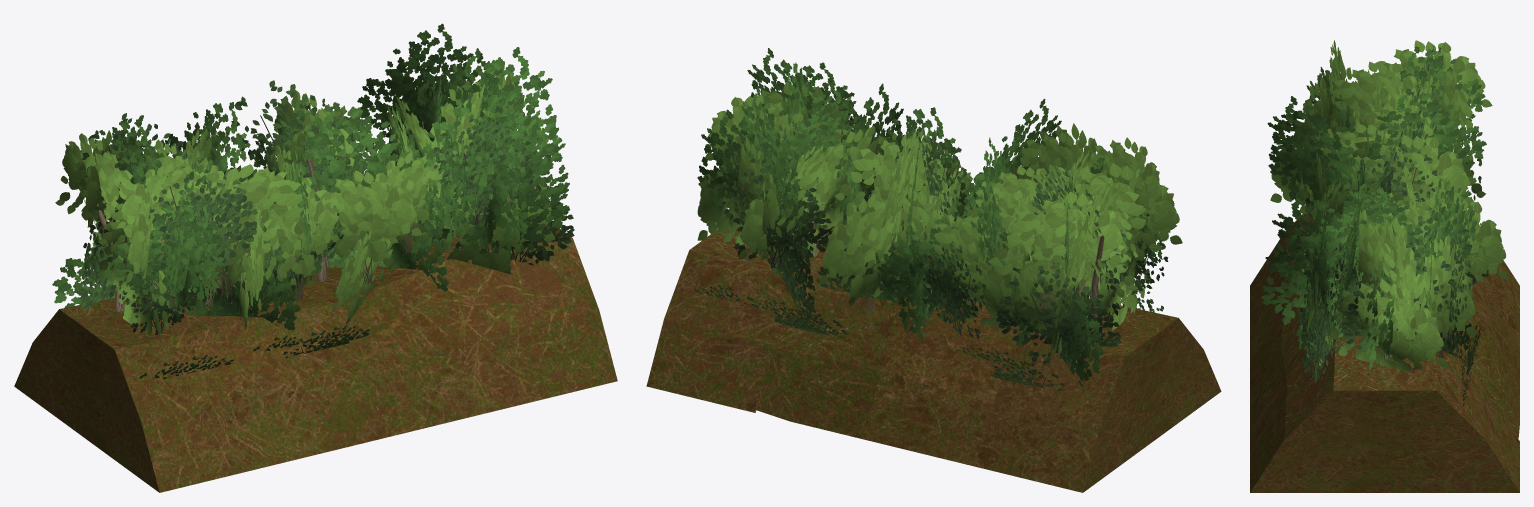
Rendered from hack_bocage_4m_c.glb.
3 views of the same model, side by side, from view 1: azimuth 30°, elevation 25°; view 2: azimuth 150°, elevation 25°; view 3: azimuth 270°, elevation 25° (orthographic). The views are drawn at different scales.
Visible parts, largest first — view 1: hack_bocage_4m_c; view 2: hack_bocage_4m_c; view 3: hack_bocage_4m_c.
Part boxes in pixels (box(x1,y1,x2,y2)): hack_bocage_4m_c: box(14, 23, 617, 492); hack_bocage_4m_c: box(646, 48, 1221, 492); hack_bocage_4m_c: box(1250, 40, 1519, 492).
Bounding box in the file's own units: 4 × 2.6 × 2.2.
Materials: 1 (1 with a texture image).
